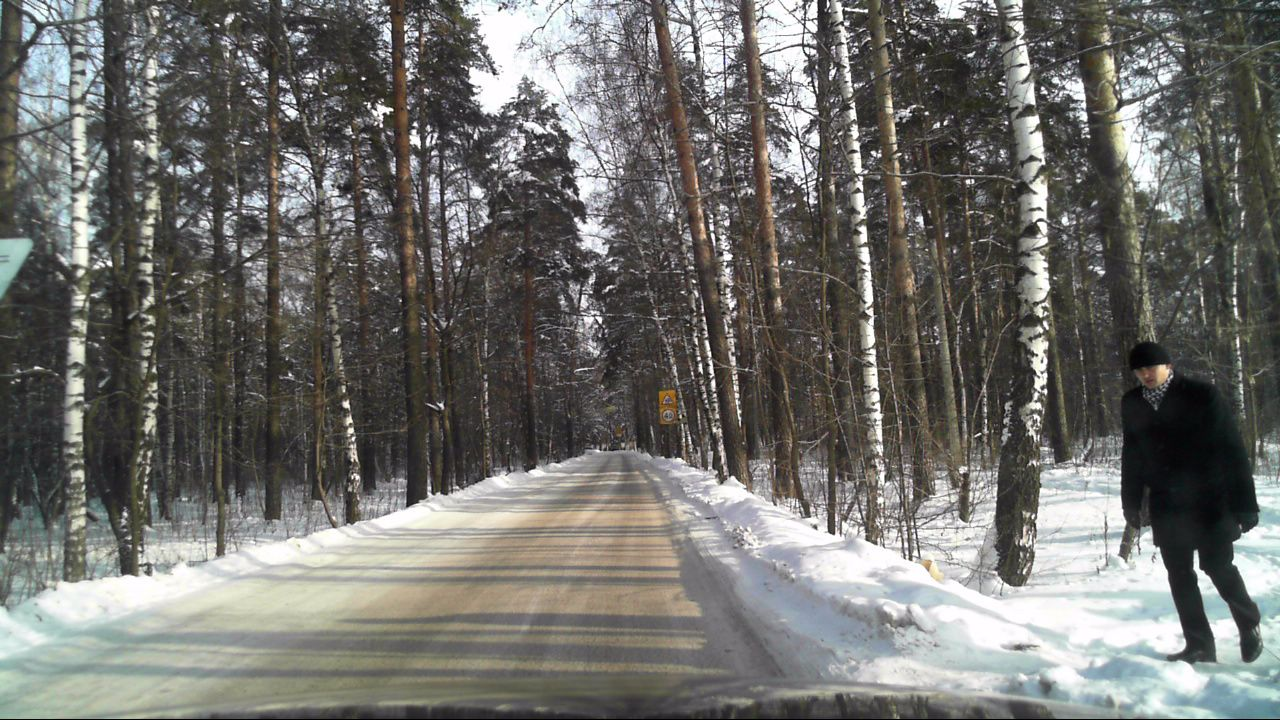speed_warning_40: (658, 408, 676, 425)
